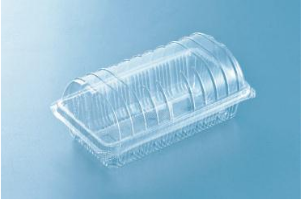PlasticBox: (47, 30, 257, 172)
